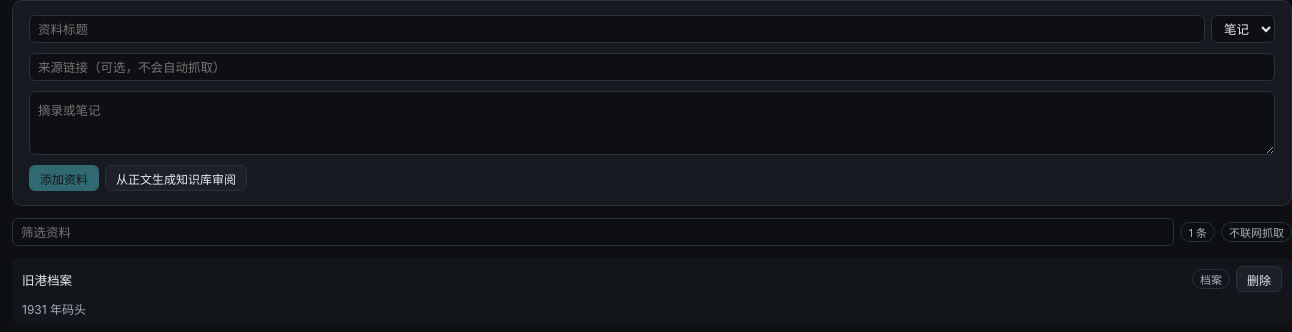
Scenario: ResearchBody › filter shows honest empty
Expected: the text "旧港档案" is shown, [22, 272, 72, 288]
Step 1. Type "zzz" into the field labelled "筛选资料" → [593, 232], box [12, 218, 1174, 246]
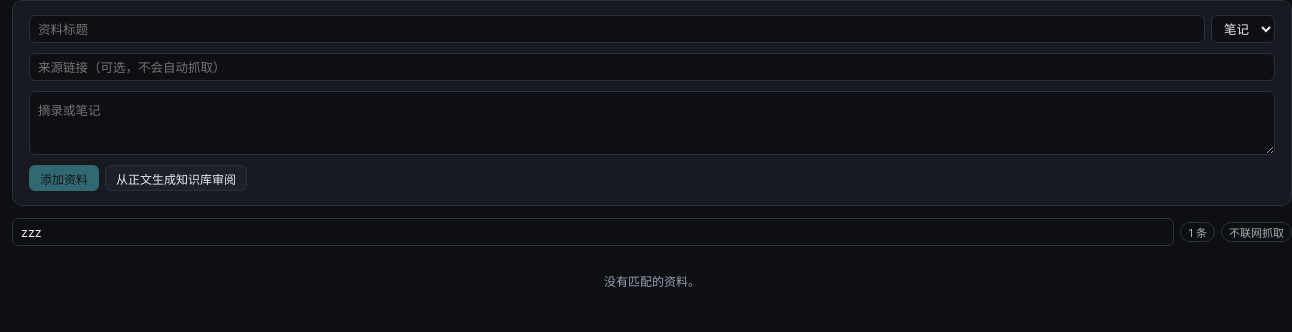
Expected: the text "没有匹配的资料。" is shown, [604, 274, 700, 289]
